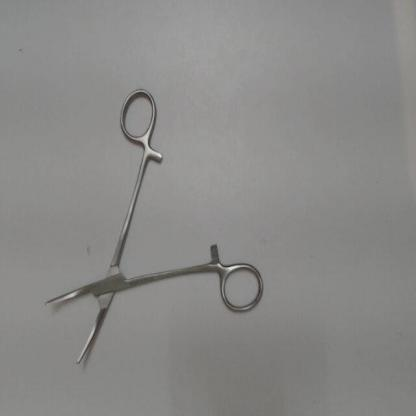Crile Artery Forceps: (38, 79, 268, 375)
